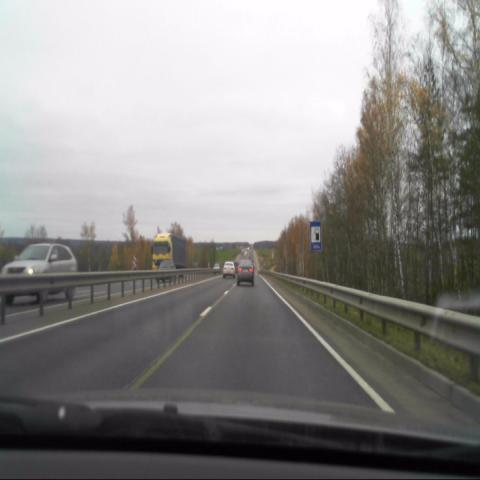7_3: (310, 220, 321, 251)
